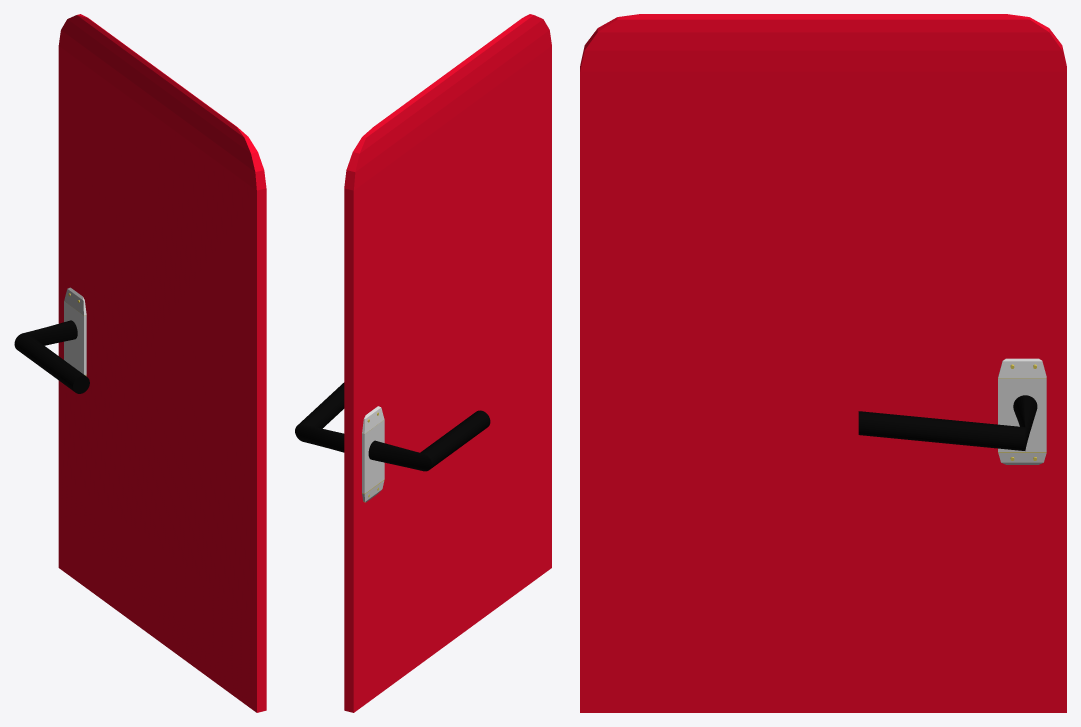
Rendered from GarageDoor.fbx.
The picture shows the model from 3 angles, left to right: view 1: azimuth 30°, elevation 25°; view 2: azimuth 150°, elevation 25°; view 3: azimuth 270°, elevation 25°; orthographic projection. The views are drawn at different scales.
Visible parts, largest first — view 1: GarageDoor; view 2: GarageDoor; view 3: GarageDoor.
Boxes of the visible parts, box(x1,y1,x2,y2) form: GarageDoor: box(14, 14, 266, 712); GarageDoor: box(295, 14, 551, 712); GarageDoor: box(580, 14, 1066, 712).
Bounding box in the file's own units: 61 × 241 × 153.
